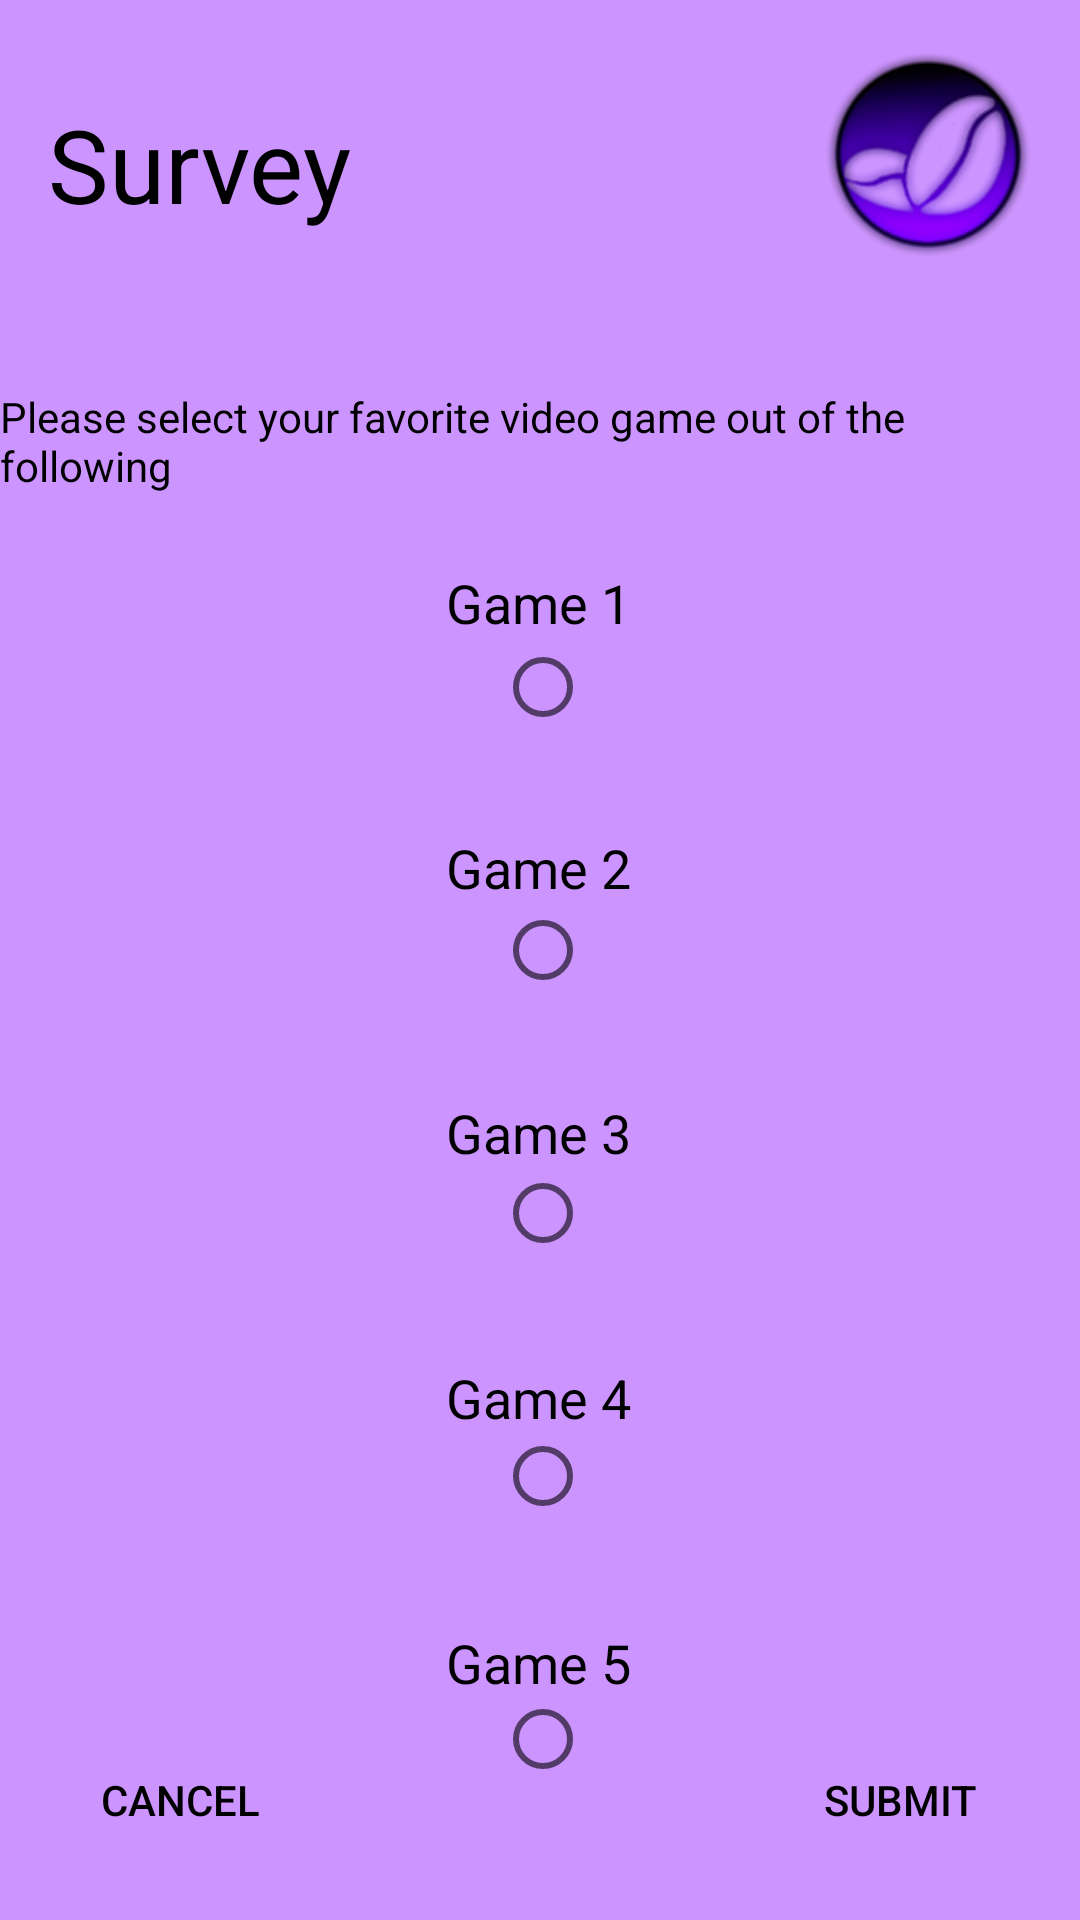

Screen size 1080px x 1920px. Icon name, then its box in pixels as (x1, y1, x2, y2):
beanpowered: (829, 56, 1027, 253)
